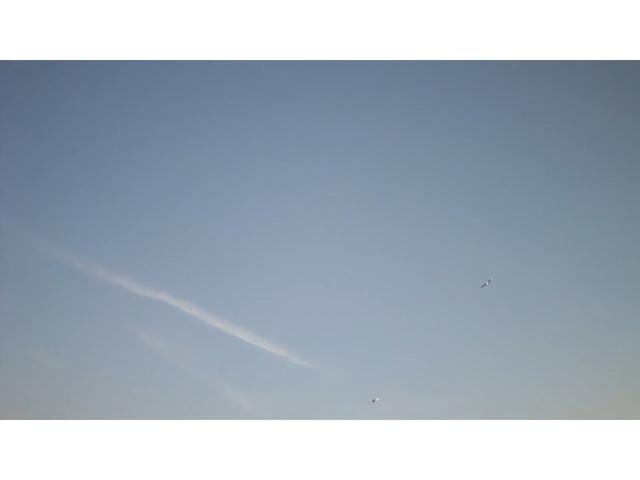Anti-Drone: (474, 274, 498, 290)
